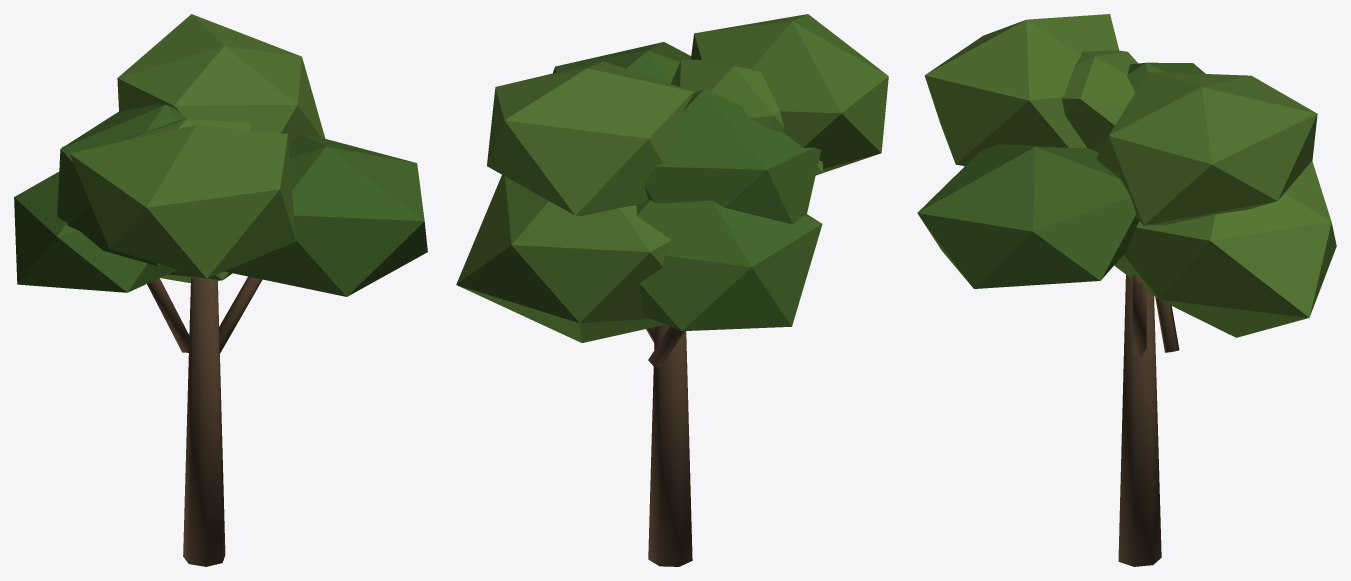
The model's file is tree_jungle.glb.
3 renders of one model, left to right at view 1: azimuth 30°, elevation 25°; view 2: azimuth 150°, elevation 25°; view 3: azimuth 270°, elevation 25°, orthographic. The views are drawn at different scales.
Visible parts, largest first — view 1: Tree; view 2: Tree; view 3: Tree.
Part boxes in pixels (<box>): Tree: <box>14,14,427,566</box>; Tree: <box>456,14,888,566</box>; Tree: <box>917,14,1336,566</box>.
Size of the model in its own units: 5.81 by 8.66 by 6.5.
